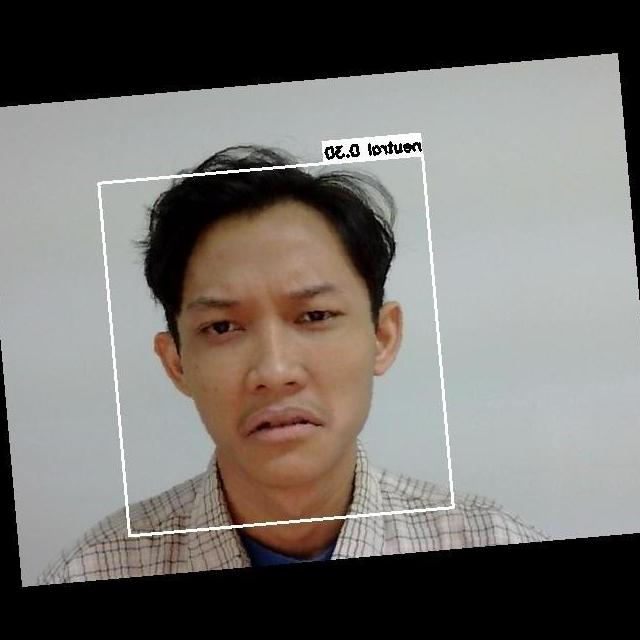Sad: (162, 272, 378, 458)
